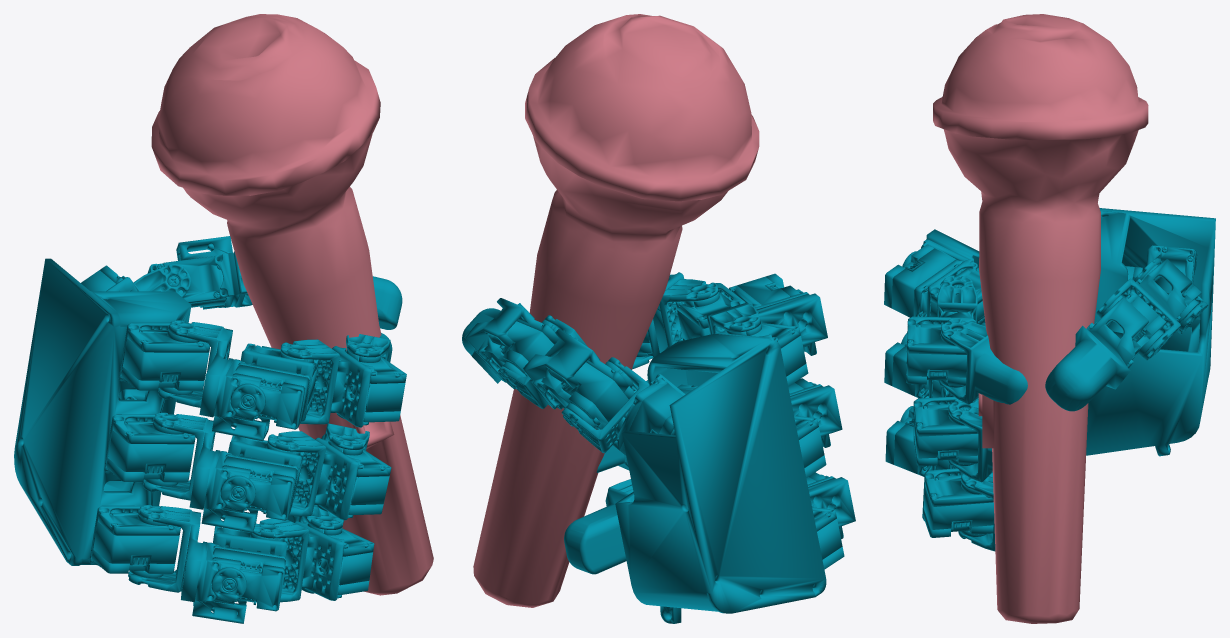
The picture shows the model from 3 angles, left to right: view 1: azimuth 30°, elevation 25°; view 2: azimuth 150°, elevation 25°; view 3: azimuth 270°, elevation 25°; orthographic projection. The views are drawn at different scales.
Parts seen in each view (by area): view 1: world; view 2: world; view 3: world.
Part boxes in pixels (left/top/right/bottom): world: left=14, top=14, right=433, bottom=623; world: left=462, top=14, right=855, bottom=623; world: left=884, top=14, right=1215, bottom=623.
Size of the model in its own units: 0.1846 by 0.3 by 0.1652.
